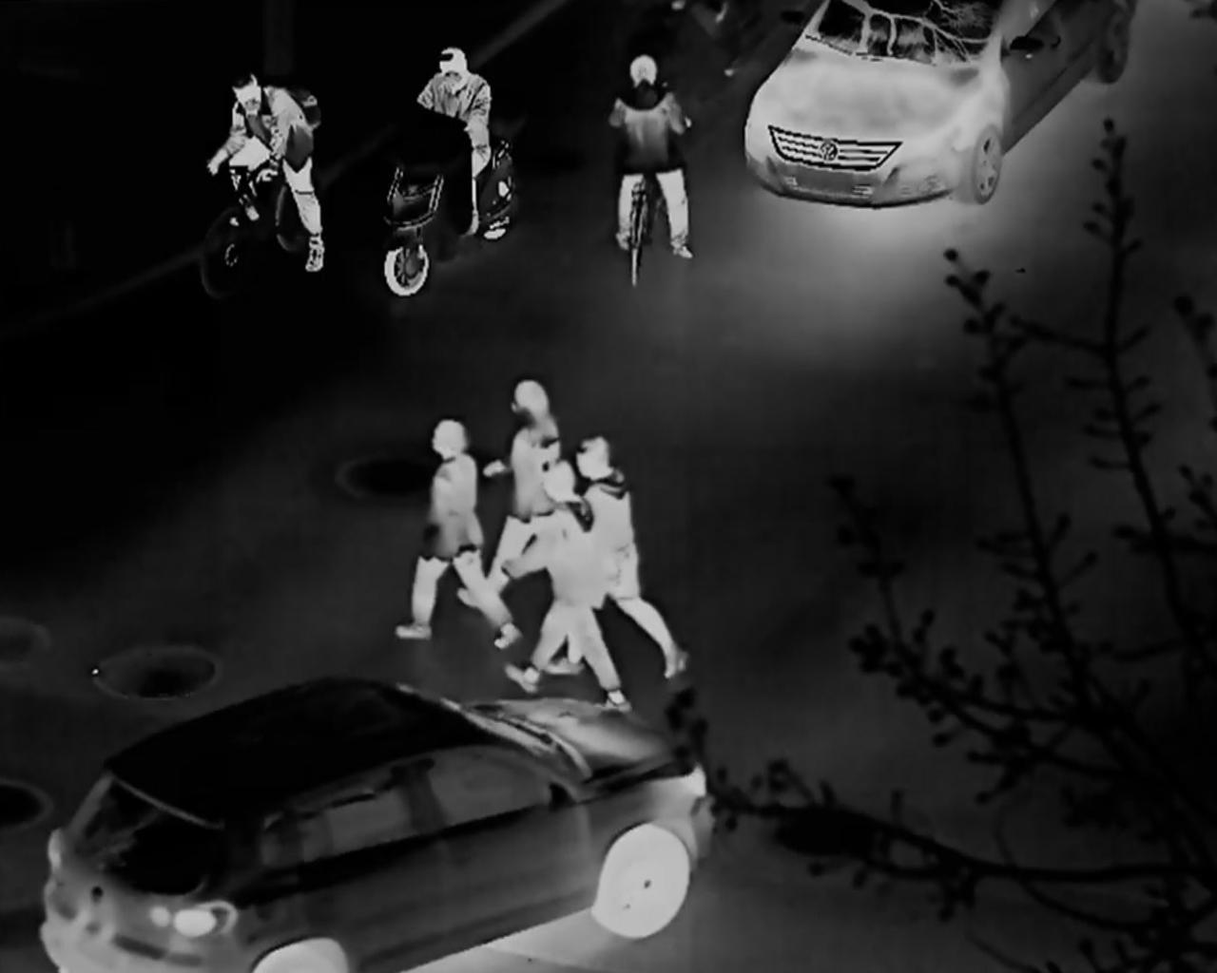person: (506, 457, 628, 715), (396, 420, 527, 650), (577, 432, 686, 683), (204, 74, 328, 275), (477, 379, 563, 598), (608, 56, 693, 261), (417, 46, 491, 241)
